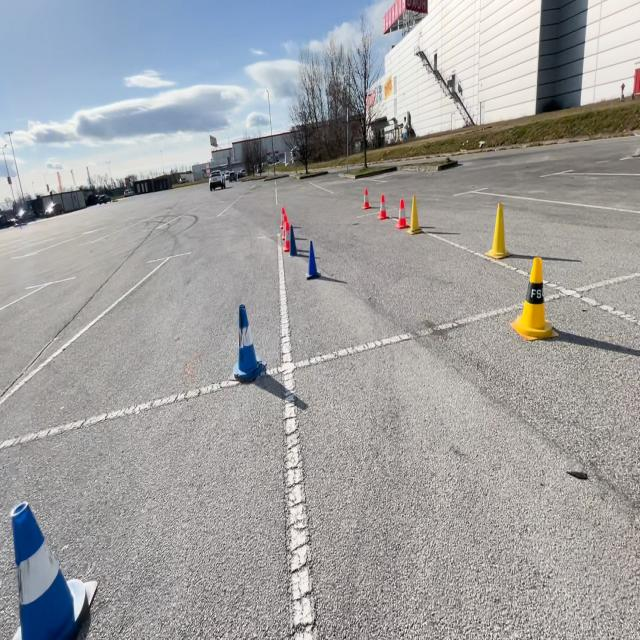blue_cone: (11, 498, 99, 640), (227, 301, 264, 382), (304, 238, 320, 279), (285, 223, 300, 258)
orange_cone: (394, 197, 410, 230), (280, 206, 290, 251), (377, 192, 389, 220), (362, 185, 372, 210)
yellow_cone: (510, 255, 557, 341), (482, 200, 512, 262), (407, 193, 422, 234)
